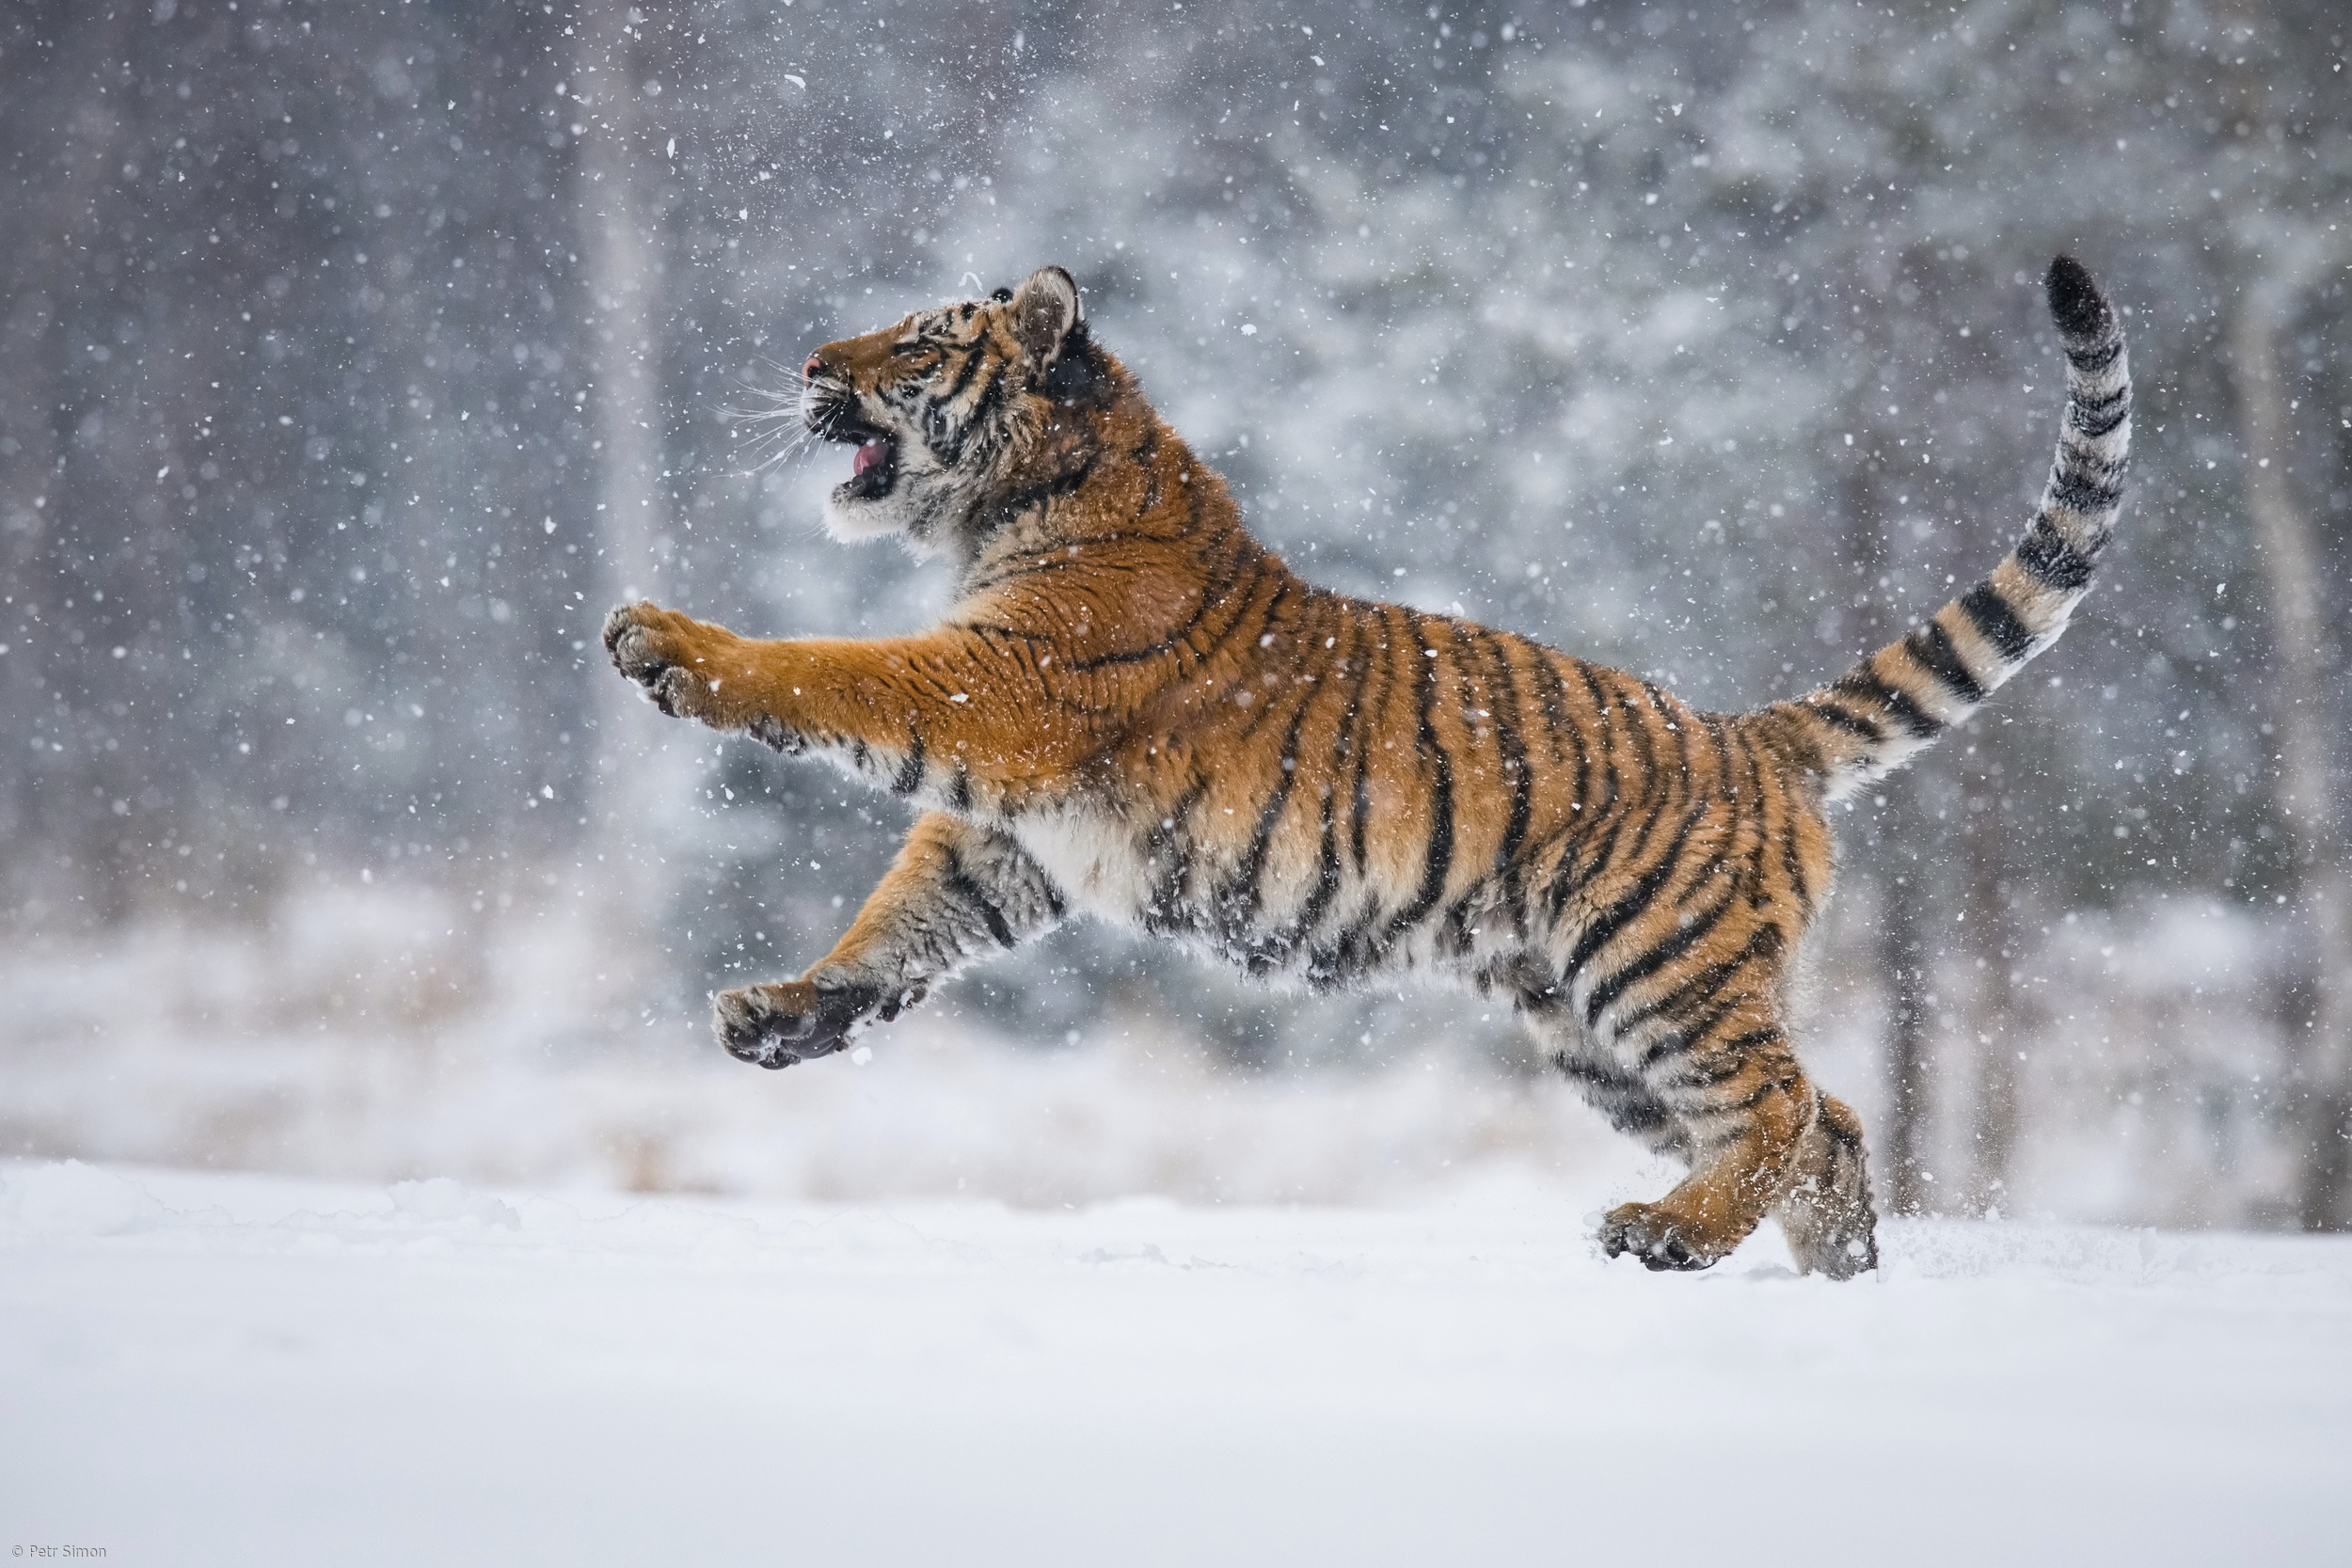tiger: (616, 213, 2208, 1360)
